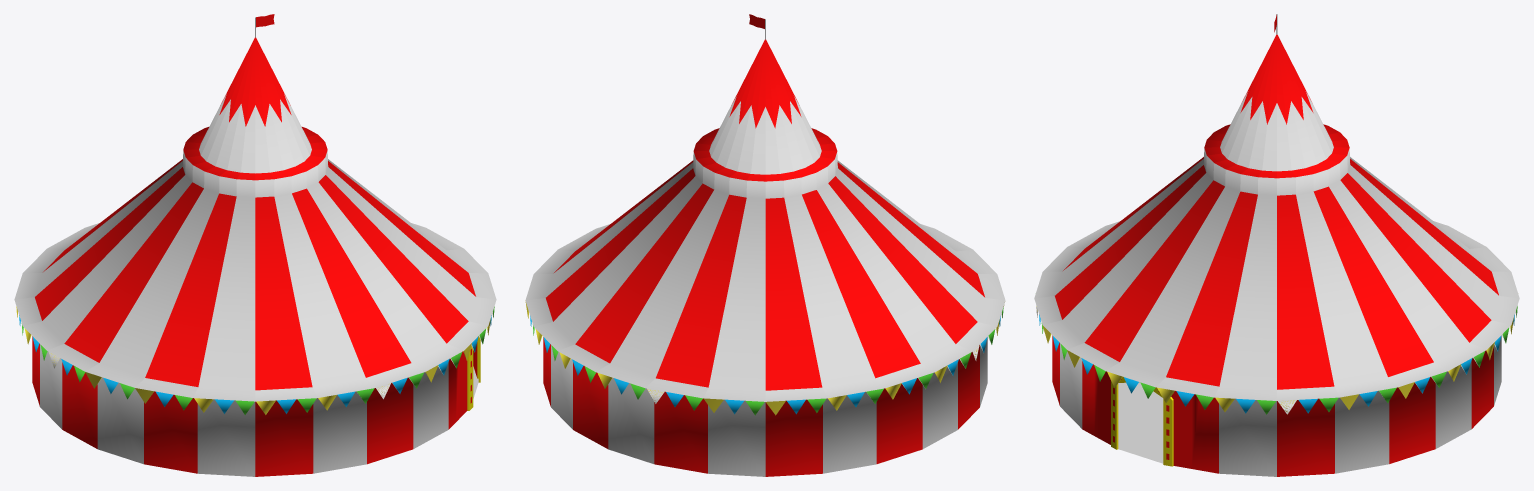
File: tent.fbx
The picture shows the model from 3 angles, left to right: view 1: azimuth 30°, elevation 25°; view 2: azimuth 150°, elevation 25°; view 3: azimuth 270°, elevation 25°; orthographic projection.
Visible parts, largest first — view 1: Cylinder; view 2: Cylinder; view 3: Cylinder.
Boxes of the visible parts, x1=… form: Cylinder: x1=14, y1=14, x2=496, y2=476; Cylinder: x1=525, y1=14, x2=1005, y2=476; Cylinder: x1=1034, y1=14, x2=1519, y2=476.
Size of the model in its own units: 10.81 by 9.04 by 10.81.
